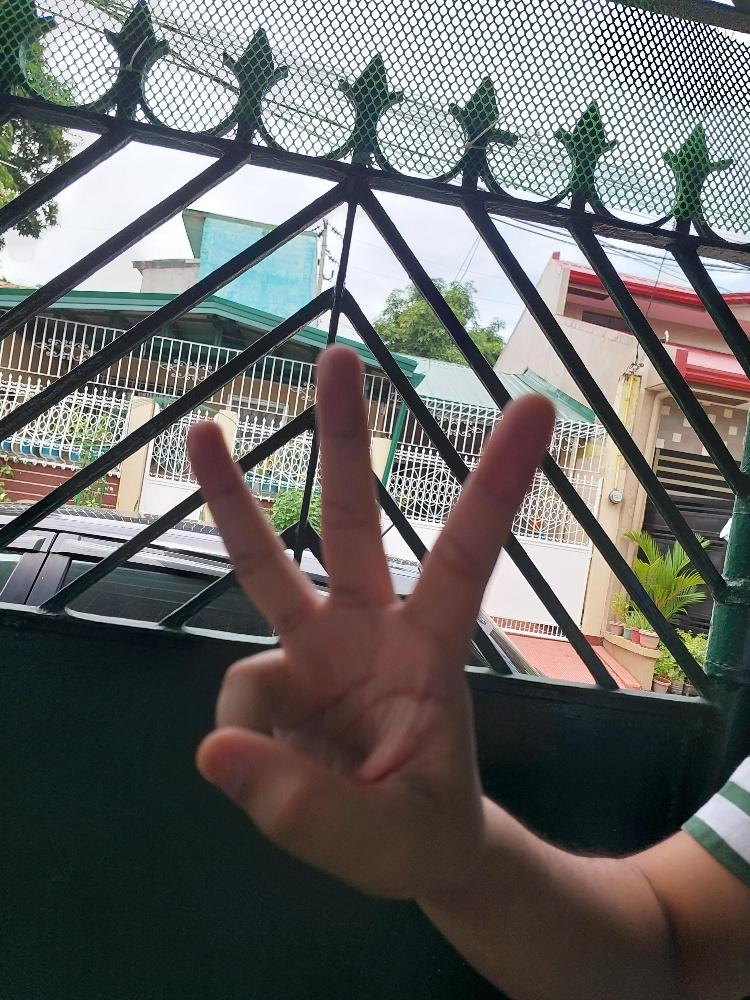w: (180, 342, 558, 905)
